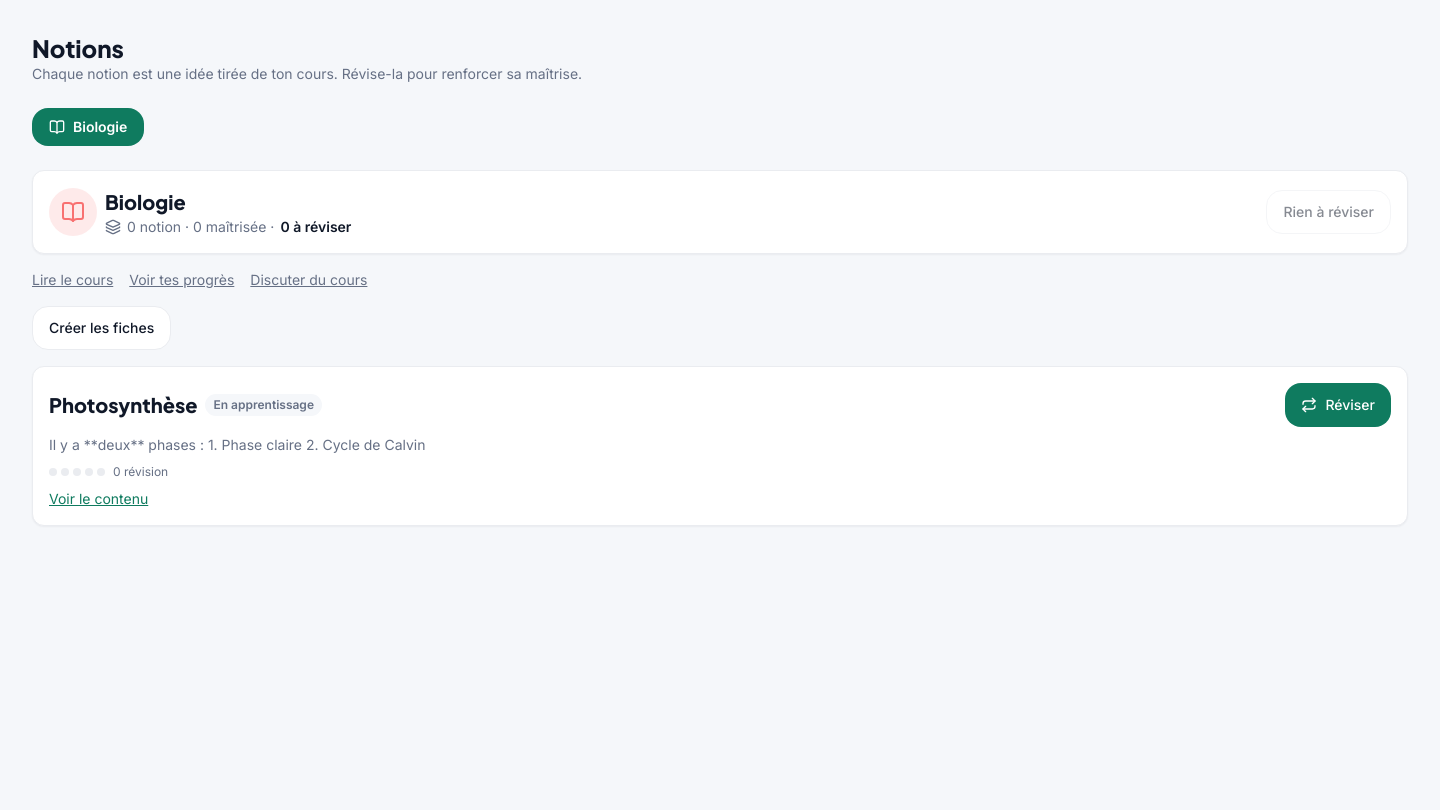
Scenario: NotionsScreen › the notion's body is hidden by default and revealed on demand, rendered as real markdown
This screenshot has width=1440, height=810.
Check: the heading "Photosynthèse" is shown, box [49, 390, 198, 420]
What coordinates should you click on to do the following:
click the button "Voir le contenu"
I would click on:
 (99, 499)
Its box is [49, 489, 148, 509].
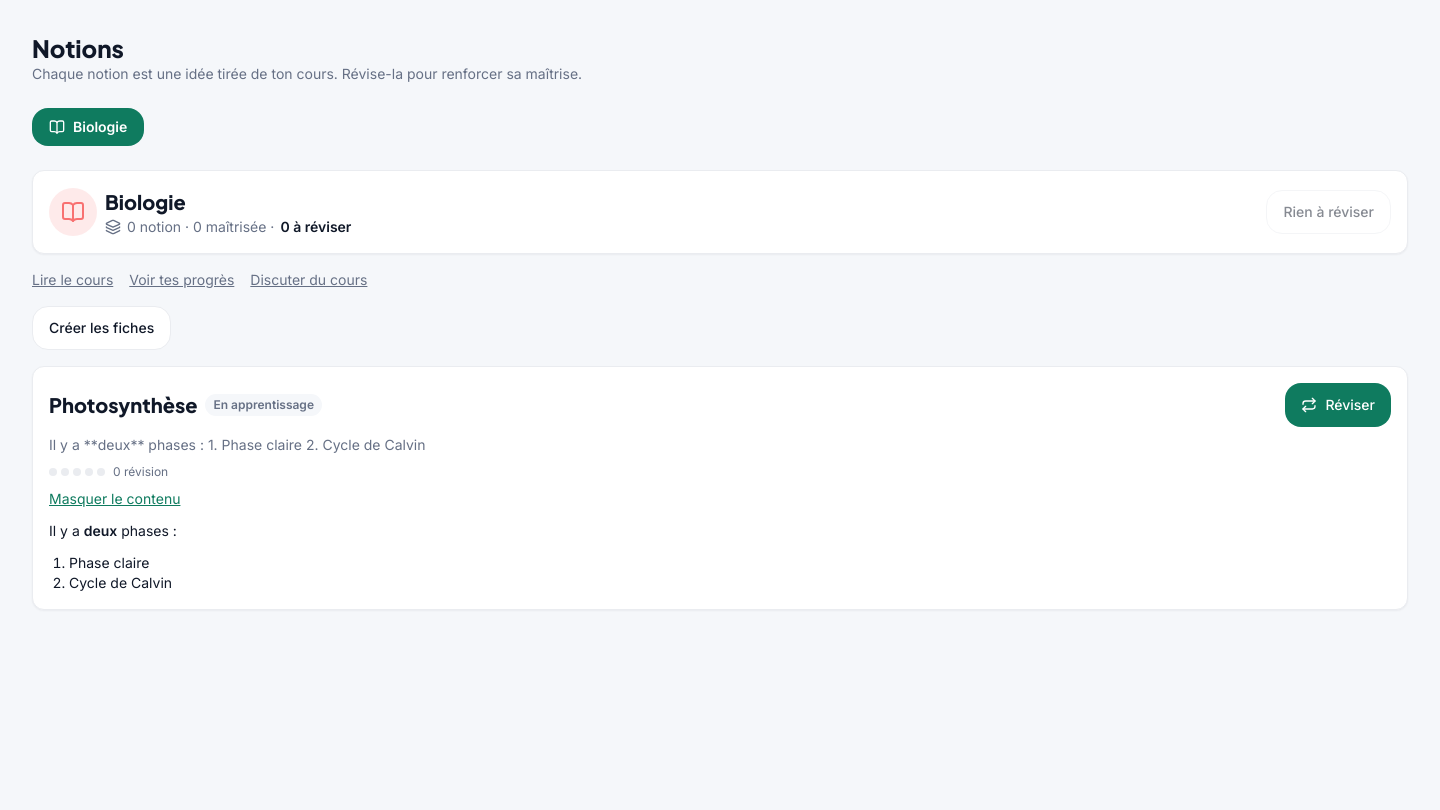
Check: the list items read "Phase claire", "Cycle de Calvin", in this order, box [69, 554, 149, 571]; [69, 574, 172, 591]
